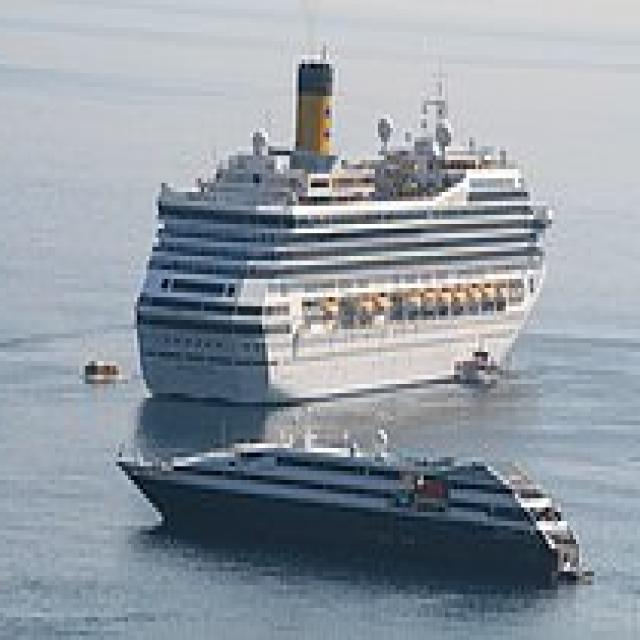Cruise: (137, 32, 561, 407)
